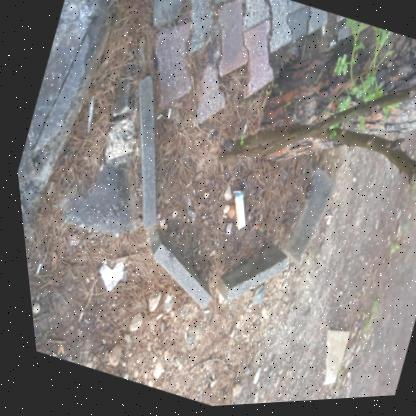Paper: (230, 192, 239, 231)
Plastic: (93, 260, 118, 292), (229, 192, 235, 194)
Waste: (315, 332, 341, 387), (84, 96, 91, 132), (29, 262, 35, 273), (164, 109, 169, 120), (149, 314, 155, 320), (54, 343, 56, 354), (177, 331, 179, 341), (197, 311, 203, 314)
